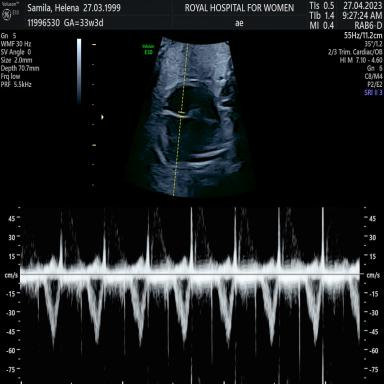Ultrasound-Waves: (26, 204, 358, 384)
